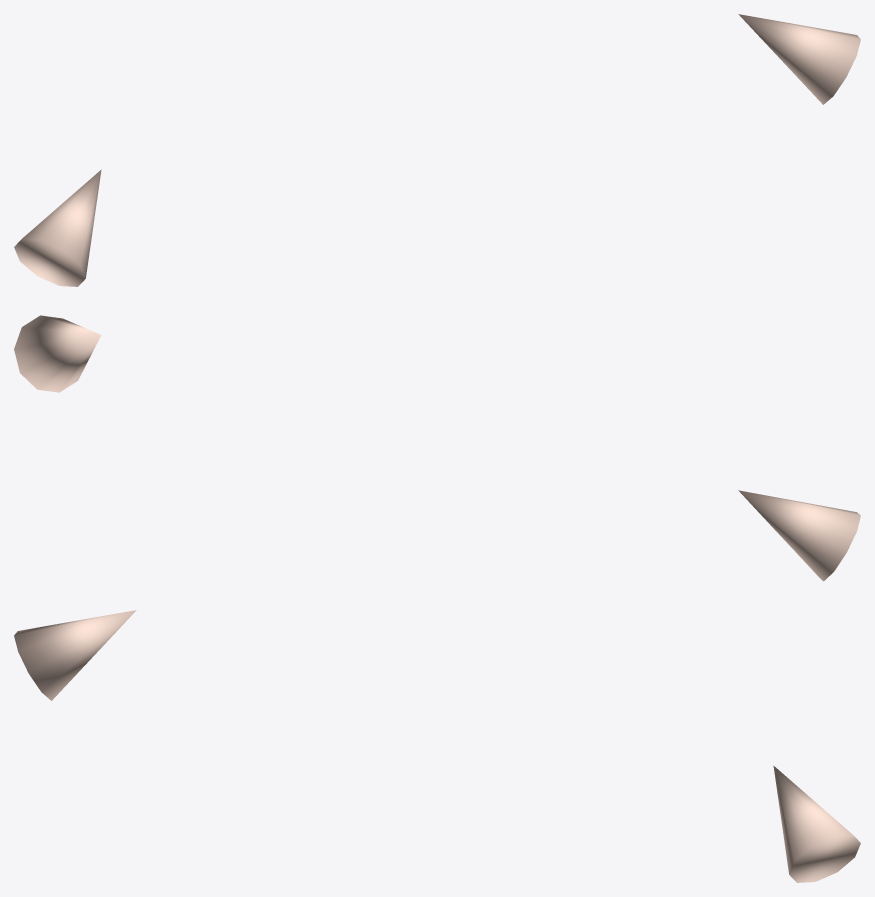
The model's file is elf_ears.glb.
3 renders of one model, top to bottom at view 1: azimuth 30°, elevation 25°; view 2: azimuth 150°, elevation 25°; view 3: azimuth 330°, elevation 25°, orthographic.
Parts seen in each view (by area): view 1: elf_ears; view 2: elf_ears; view 3: elf_ears.
Boxes of the visible parts, <box> form: elf_ears: <box>14,14,860,286</box>; elf_ears: <box>14,315,860,581</box>; elf_ears: <box>14,610,860,882</box>.
Bounding box in the file's own units: 0.726 × 0.0724 × 0.0652.
